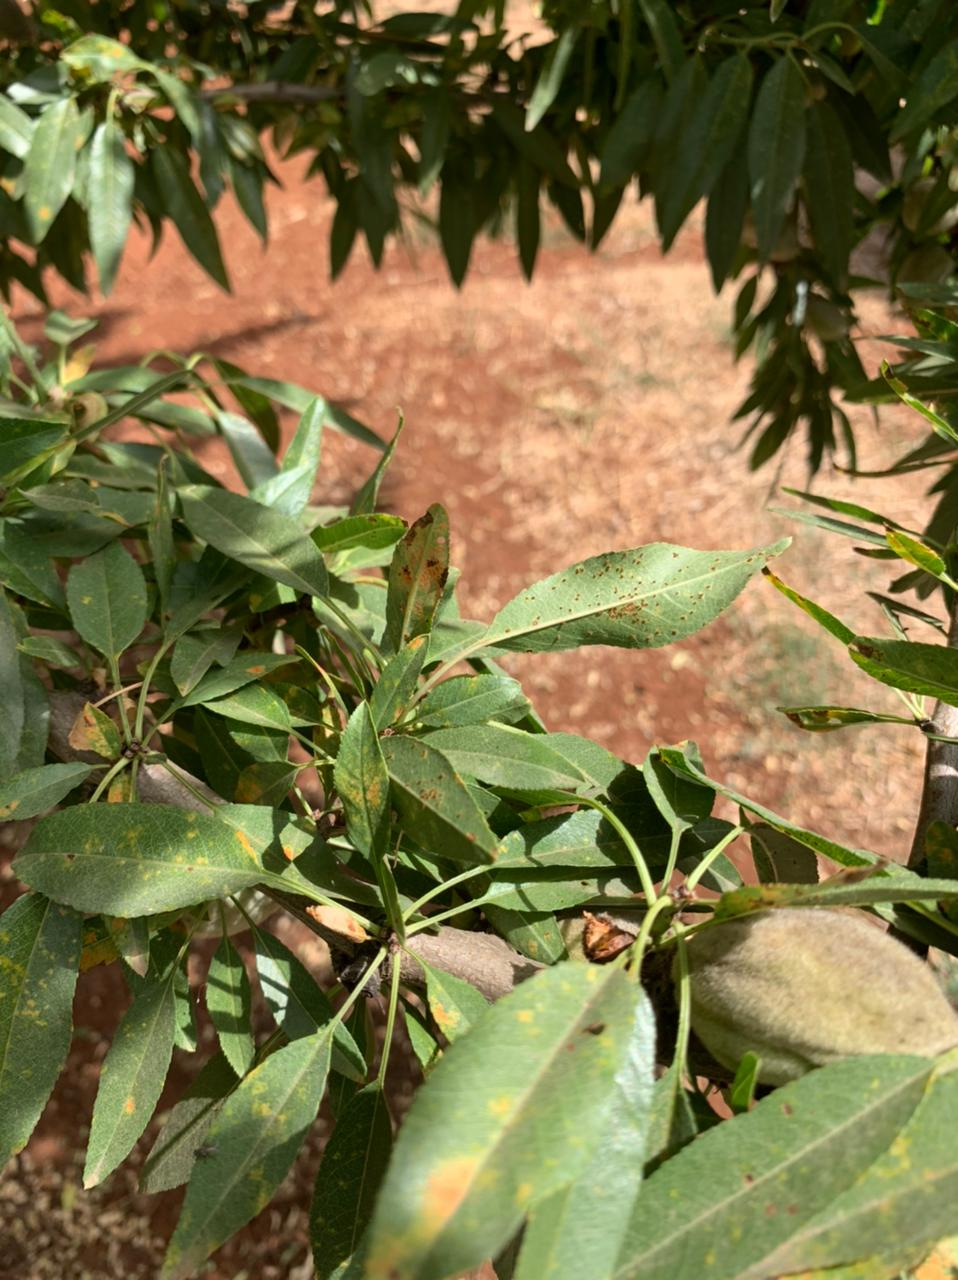rouille: (366, 960, 637, 1271), (614, 1052, 935, 1280), (436, 535, 791, 654), (16, 802, 270, 919), (381, 735, 501, 860), (381, 504, 455, 644)
